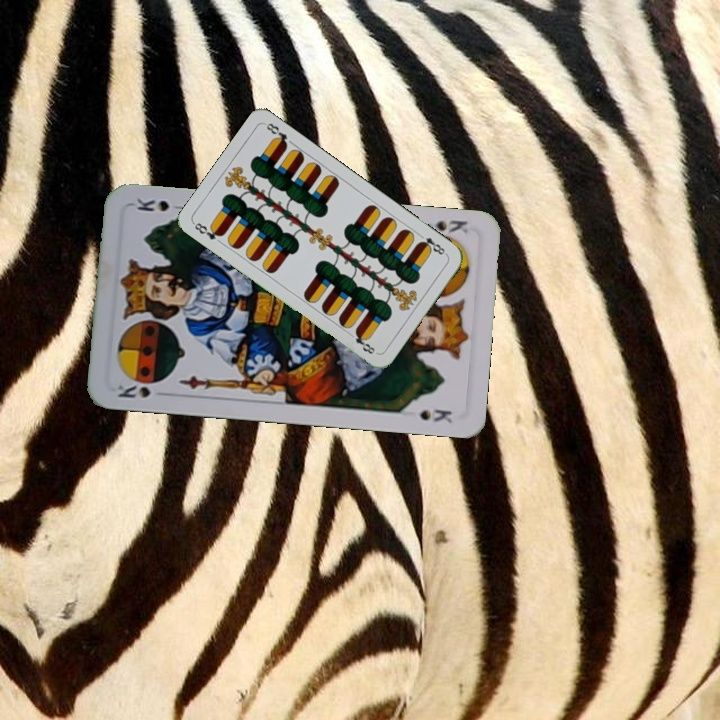E8: (414, 229, 449, 258), (190, 218, 226, 242)
SK: (416, 216, 470, 236), (114, 381, 153, 401)
